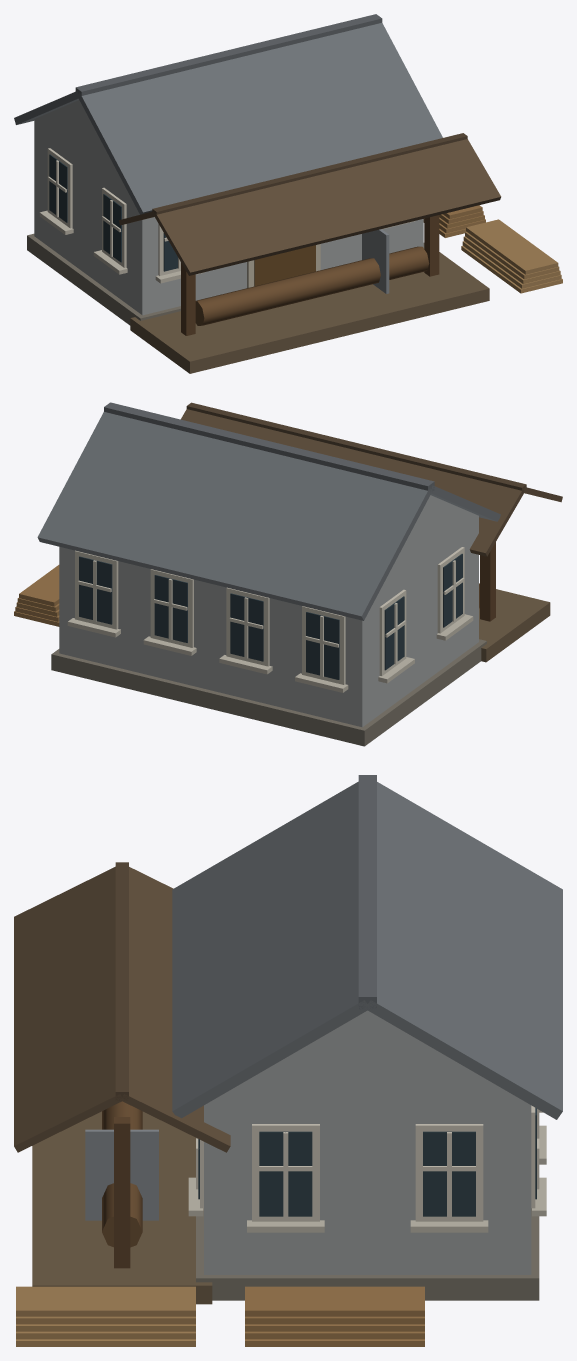
Rendered from procedural_saw@6.glb.
The picture shows the model from 3 angles, top to bottom: view 1: azimuth 30°, elevation 25°; view 2: azimuth 150°, elevation 25°; view 3: azimuth 270°, elevation 25°; orthographic projection. The views are drawn at different scales.
Parts seen in each view (by area): view 1: part_0; view 2: part_0; view 3: part_0.
Part boxes in pixels (x1,y1,x2,y2): part_0: (14,14,562,373); part_0: (14,402,562,746); part_0: (14,775,562,1346).
Size of the model in its own units: 7.97 by 4.15 by 6.71.
